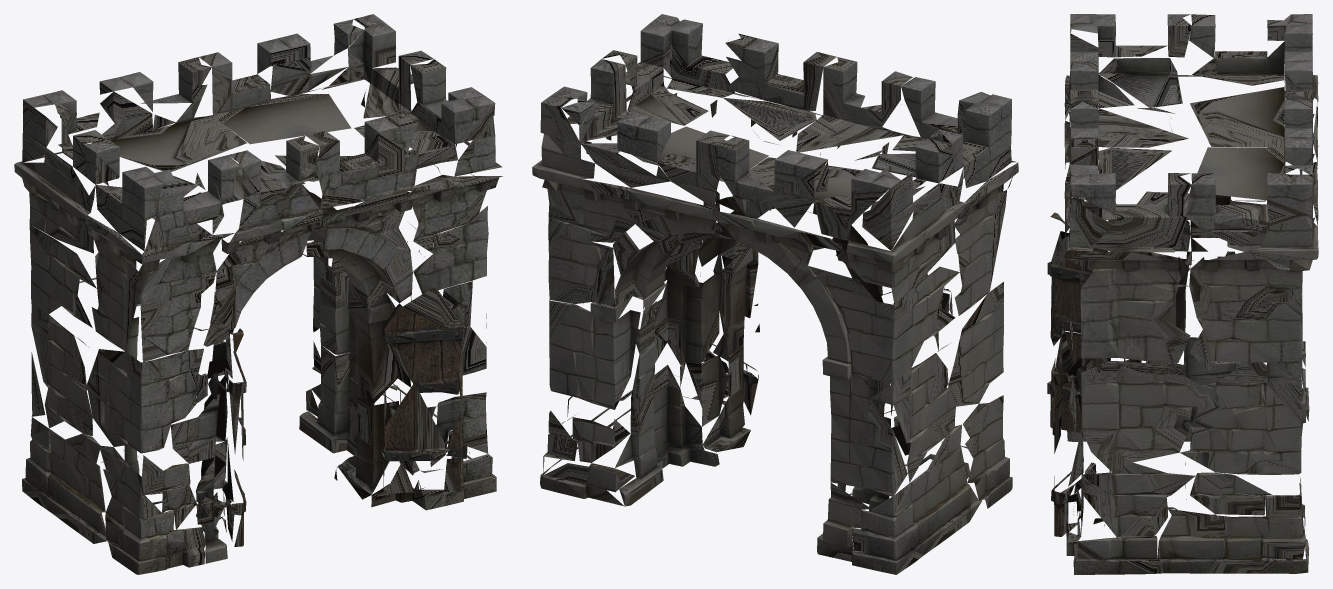
The model's file is bld_gatehouse_stone_a_LOD1.glb.
3 renders of one model, left to right at view 1: azimuth 30°, elevation 25°; view 2: azimuth 150°, elevation 25°; view 3: azimuth 270°, elevation 25°, orthographic.
Parts seen in each view (by area): view 1: geometry_0; view 2: geometry_0; view 3: geometry_0.
Boxes of the visible parts, x1,y1,x2,y2 form: geometry_0: (14,14,502,574); geometry_0: (532,14,1018,574); geometry_0: (1047,14,1318,574).
Bounding box in the file's own units: 7.75 × 8 × 5.03.
Materials: 1 (1 with a texture image).
